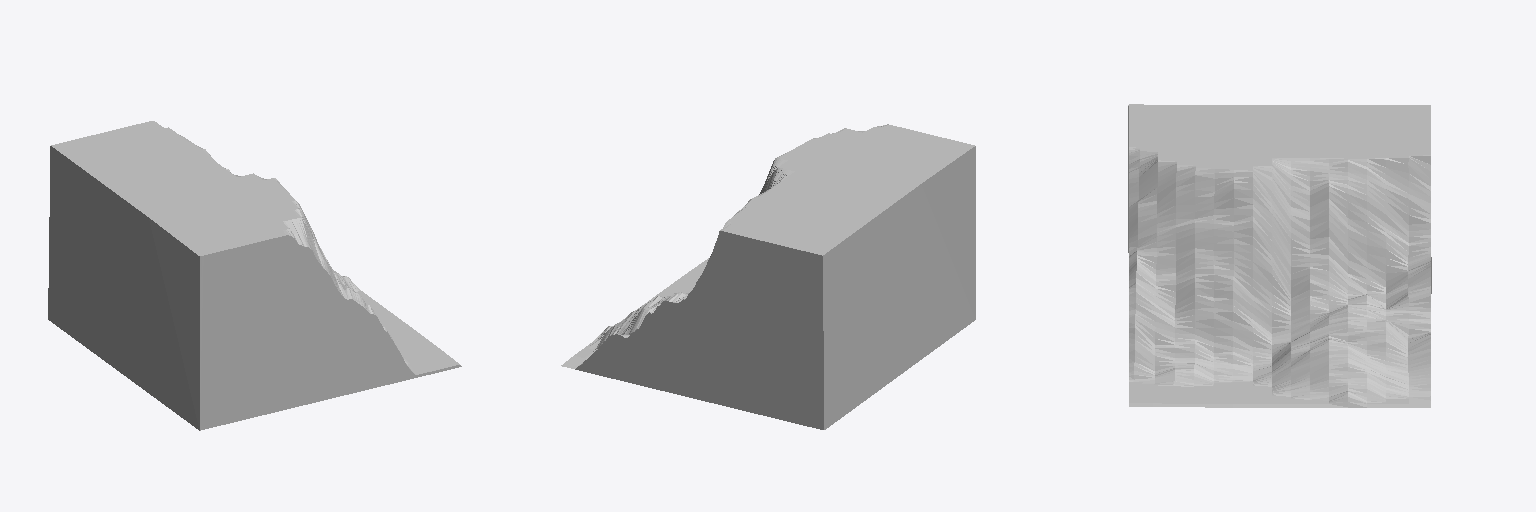
Rendered from B6Clliff.obj.
The picture shows the model from 3 angles: view 1: azimuth 30°, elevation 25°; view 2: azimuth 150°, elevation 25°; view 3: azimuth 270°, elevation 25°; orthographic projection.
Parts seen in each view (by area): view 1: Cliff_Segment_6_Landscape.001; view 2: Cliff_Segment_6_Landscape.001; view 3: Cliff_Segment_6_Landscape.001.
Boxes of the visible parts, box(x1,y1,x2,y2) form: Cliff_Segment_6_Landscape.001: box(48, 121, 461, 430); Cliff_Segment_6_Landscape.001: box(561, 124, 975, 429); Cliff_Segment_6_Landscape.001: box(1128, 104, 1431, 407).
Bounding box in the file's own units: 2.01 × 1.27 × 2.